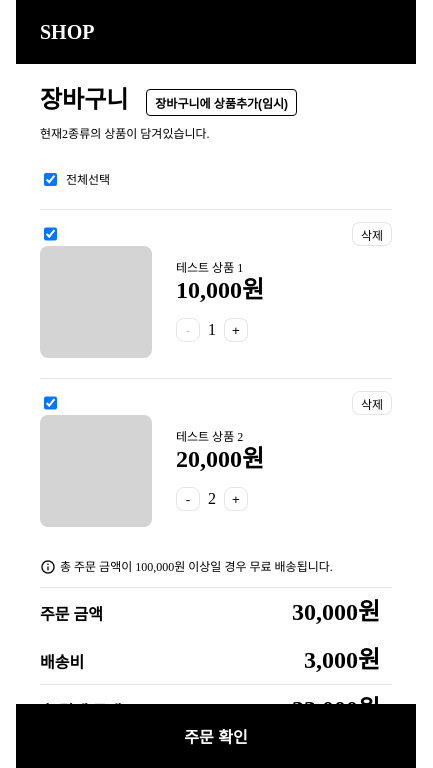
Test: CartPage › 주문 금액이 0원이면 주문 확인 버튼이 비활성화 된다
The image size is (433, 768).
Expected: the text "테스트 상품 1" is shown, [176, 262, 243, 274]
Click the checkbox labelled "전체선택" at {"x": 50, "y": 180}, box [44, 173, 57, 186]
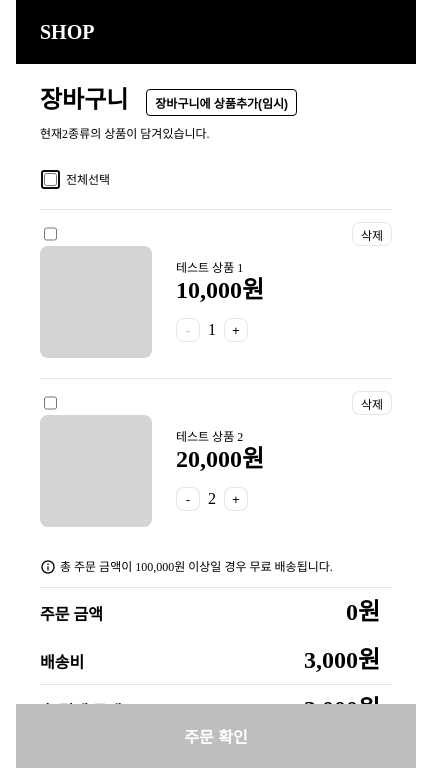
Expected: the button "주문 확인" is disabled, [16, 704, 416, 767]
